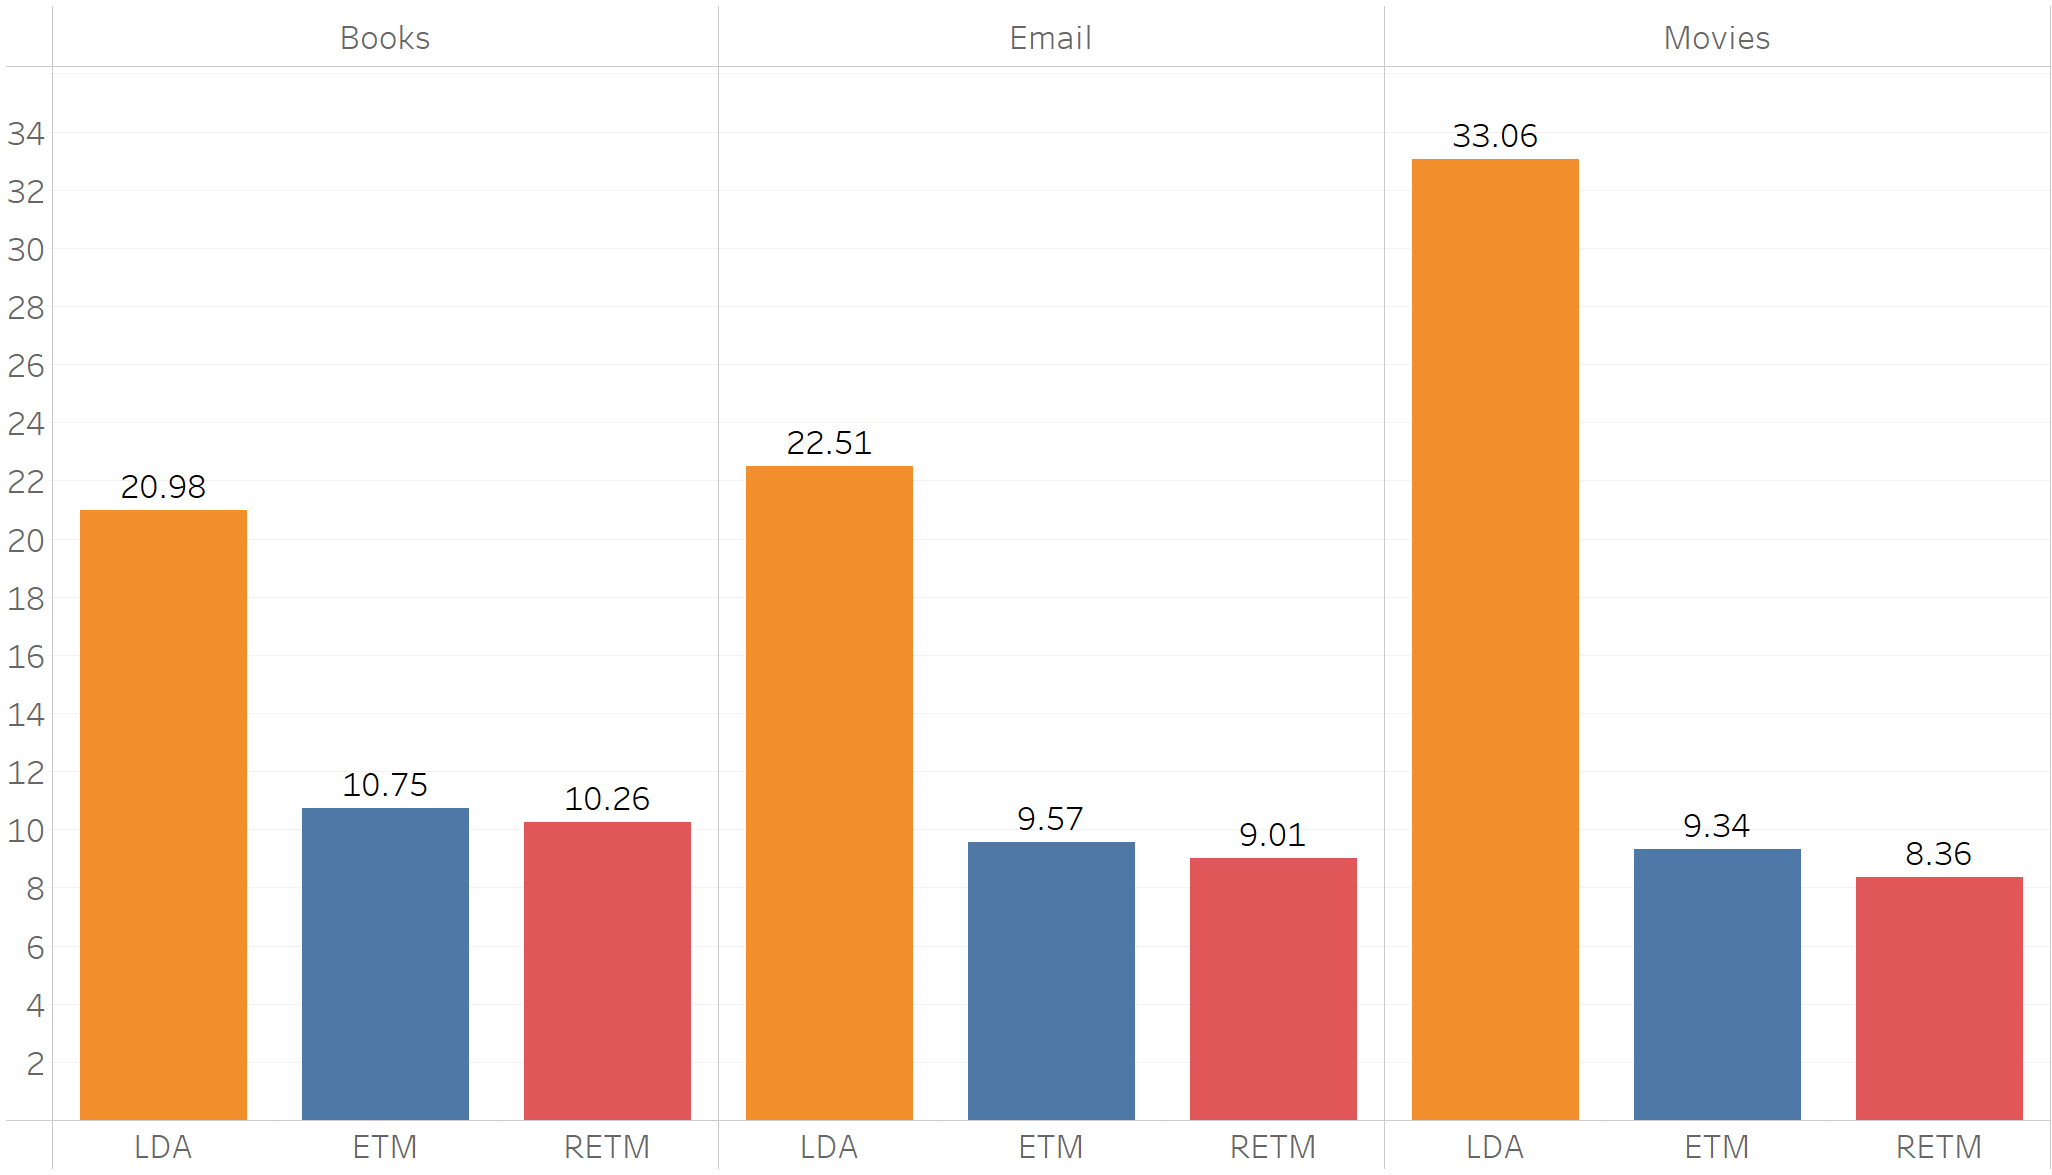

The dashboard page shown, as its layout file describes it:
{"tool":"powerbi","page":{"name":"test_log2","canvas":[1280,720],"ordinal":1},"visuals":[{"type":"clusteredColumnChart","fields":{"Category":["model_metrics.file"],"Series":["model_metrics.model"],"Y":["Sum(model_metrics.perplexity_test_log)"]},"box":[9.6,0,1270.4,720.3],"z":0}]}

Visuals, with their boxes in screenshot pixels (x1, y1, x2, y2), scaled from the page's 1280x720 canvas onto the 2052x1175 screenshot:
clusteredColumnChart - model_metrics.file x model_metrics.model: bbox=[15, 0, 2051, 1174]
